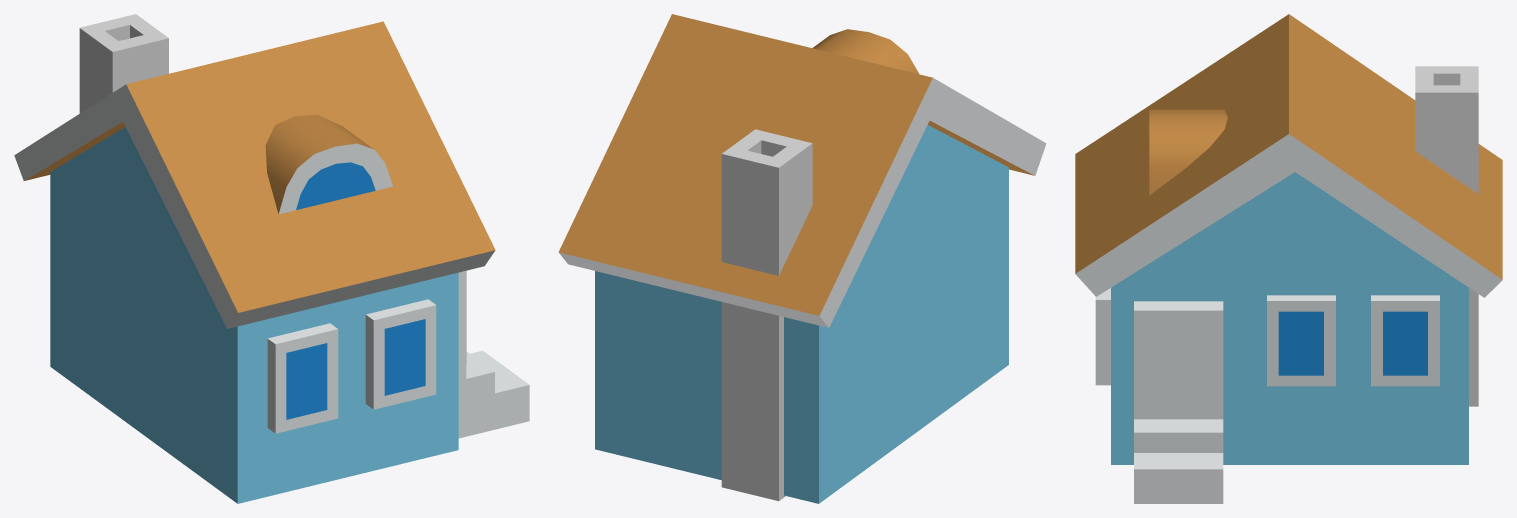
File: house01_s03.FBX
The picture shows the model from 3 angles, left to right: view 1: azimuth 30°, elevation 25°; view 2: azimuth 150°, elevation 25°; view 3: azimuth 270°, elevation 25°; orthographic projection. The views are drawn at different scales.
Visible parts, largest first — view 1: house01_s03; view 2: house01_s03; view 3: house01_s03.
Boxes of the visible parts, left/top/right/bottom form: house01_s03: left=14, top=14, right=529, bottom=503; house01_s03: left=558, top=14, right=1046, bottom=503; house01_s03: left=1075, top=14, right=1502, bottom=503.
Size of the model in its own units: 427 by 514 by 453.
1 material, 1 textured.
